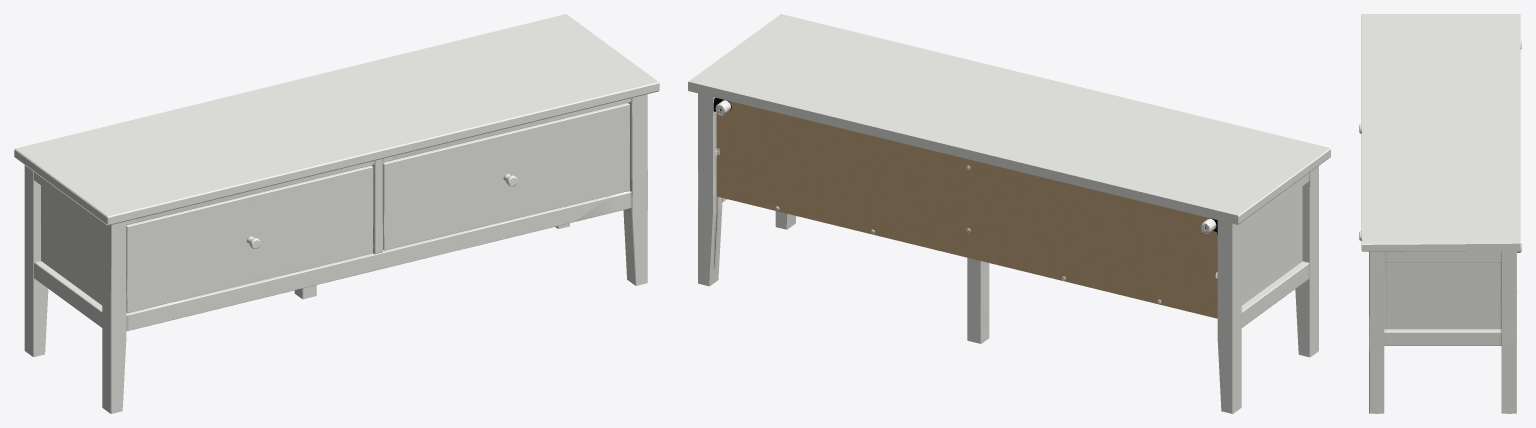
File: gullaberg_awka_ze_schowkiem_80573957.glb
3 renders of one model, left to right at view 1: azimuth 30°, elevation 25°; view 2: azimuth 150°, elevation 25°; view 3: azimuth 270°, elevation 25°, orthographic. The views are drawn at different scales.
Visible parts, largest first — view 1: gullaberg_awka_ze_schowkiem_80573957; view 2: gullaberg_awka_ze_schowkiem_80573957; view 3: gullaberg_awka_ze_schowkiem_80573957.
Boxes of the visible parts, box(x1,y1,x2,y2) form: gullaberg_awka_ze_schowkiem_80573957: box(14, 14, 659, 413); gullaberg_awka_ze_schowkiem_80573957: box(688, 14, 1330, 413); gullaberg_awka_ze_schowkiem_80573957: box(1359, 14, 1521, 413).
Bounding box in the file's own units: 1.48 × 0.5215 × 0.4394.
Materials: 1 (1 with a texture image).
